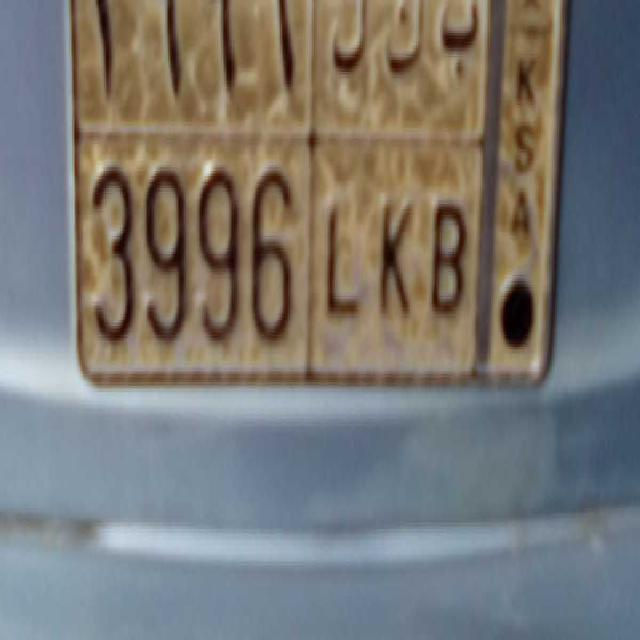license_plate: (75, 130, 480, 377)
